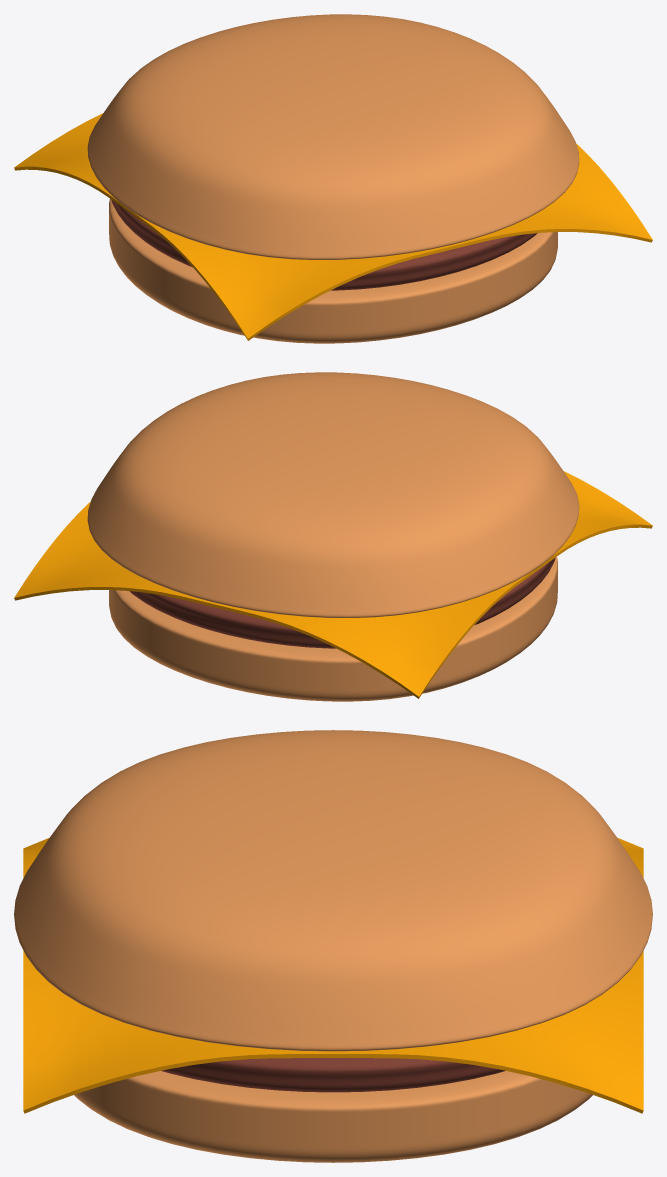
The model's file is hamburger.glb.
The picture shows the model from 3 angles, top to bottom: view 1: azimuth 30°, elevation 25°; view 2: azimuth 150°, elevation 25°; view 3: azimuth 270°, elevation 25°; orthographic projection. The views are drawn at different scales.
Visible parts, largest first — view 1: Cube.002, Cube, Plane, Cube.001; view 2: Cube.002, Cube, Plane, Cube.001; view 3: Cube.002, Cube, Plane, Cube.001.
Boxes of the visible parts, x1,y1,x2,y2 form: Cube.002: [87, 14, 579, 259]; Cube: [109, 198, 557, 343]; Plane: [14, 113, 652, 340]; Cube.001: [111, 199, 537, 290]; Cube.002: [87, 372, 579, 617]; Cube: [109, 556, 557, 701]; Plane: [14, 471, 652, 698]; Cube.001: [129, 557, 555, 648]; Cube.002: [14, 730, 652, 1051]; Cube: [74, 1071, 592, 1162]; Plane: [23, 838, 643, 1113]; Cube.001: [161, 1058, 505, 1092].
Size of the model in its own units: 10.25 by 4.46 by 10.25.
